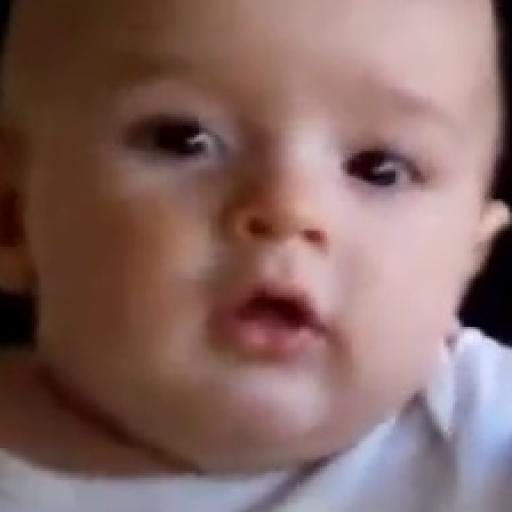Autism: (16, 6, 512, 475)
